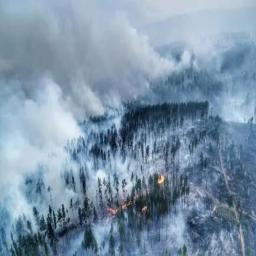Heavy smoke: (17, 0, 190, 255)
